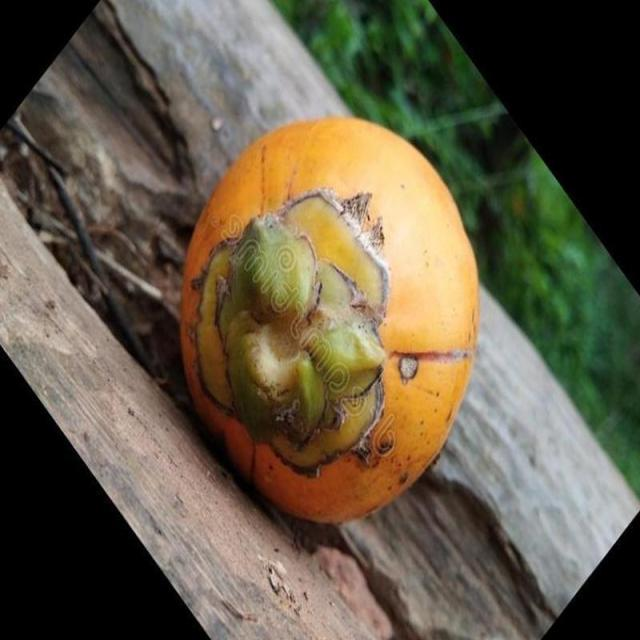good: (178, 117, 480, 527)
